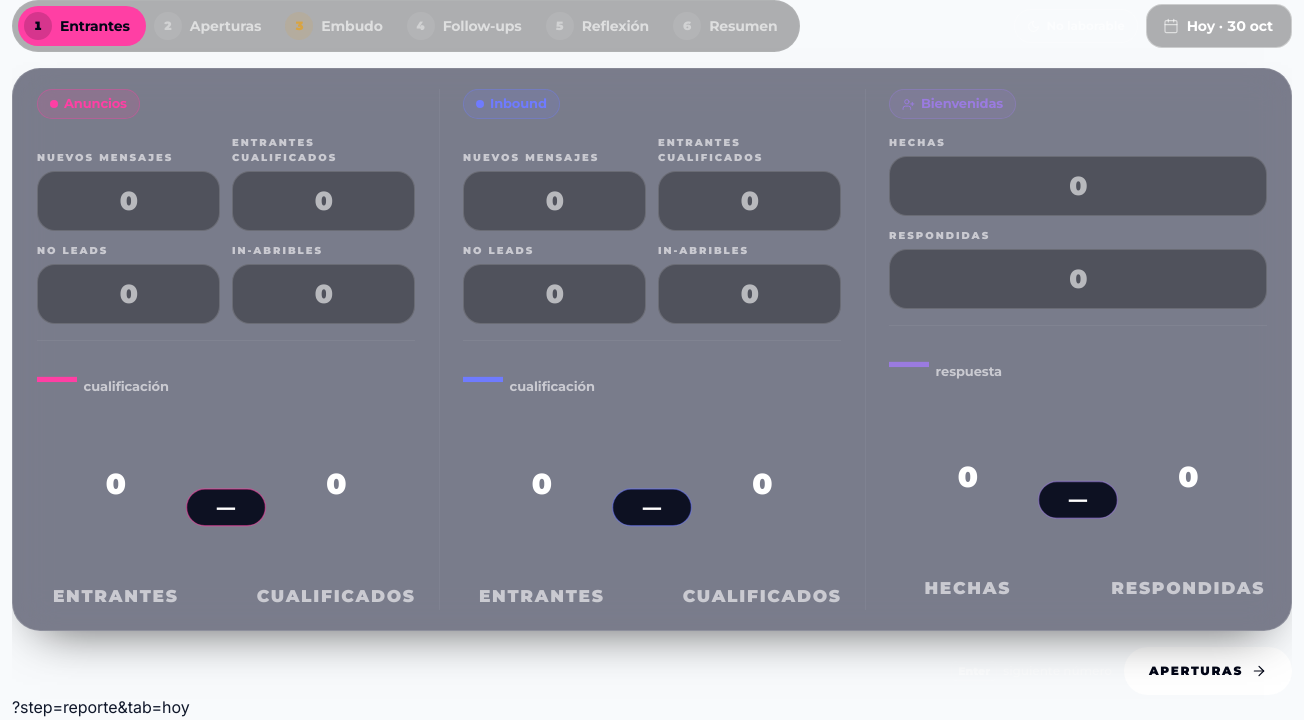
Test: ReporteDiario · de dónde salen los números › sin reporte del día, precarga solo las agendas: los mensajes los cuenta el setter
The width and height of the screenshot is (1304, 720).
Expected: the field named "Anuncios, nuevos mensajes" is empty, [38,172,219,230]
Expected: the field named "Anuncios, no leads" is empty, [38,265,219,323]
Click the button "Aperturas". click: (1208, 671)
box: [1124,647,1292,695]
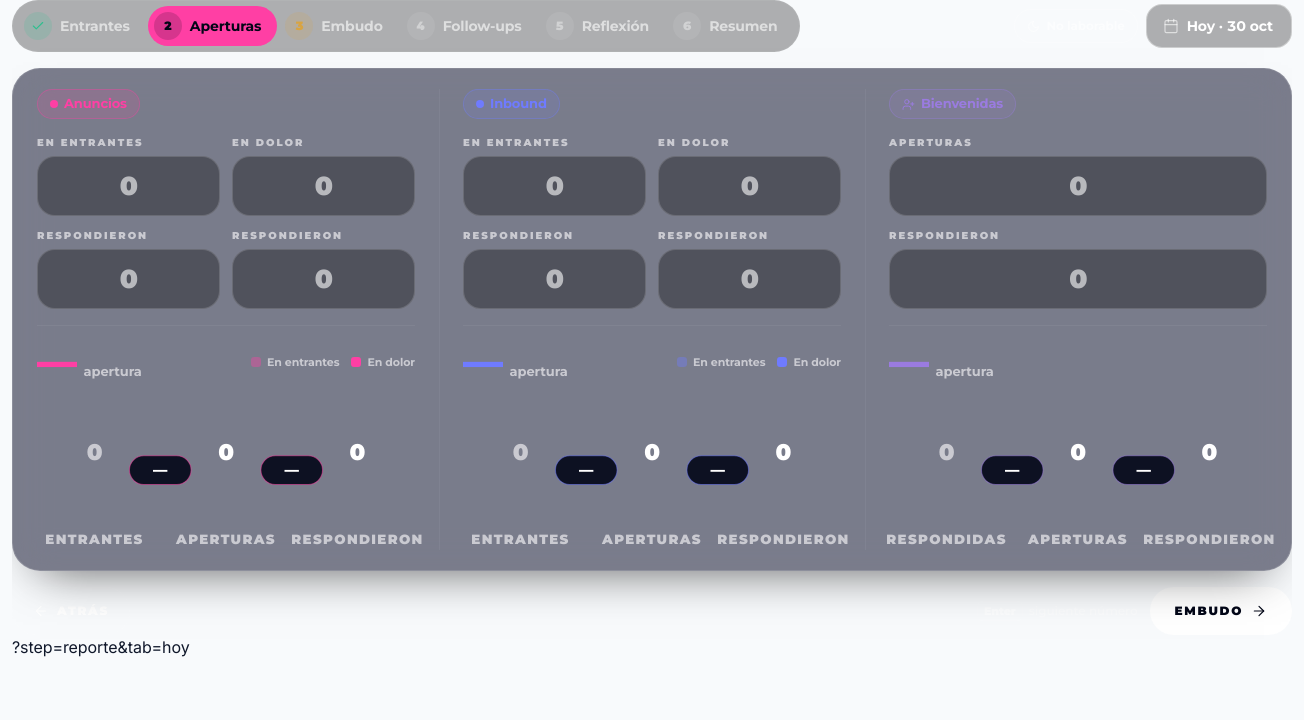
Click the button "Embudo". click: (1221, 611)
box: [1150,587,1292,635]
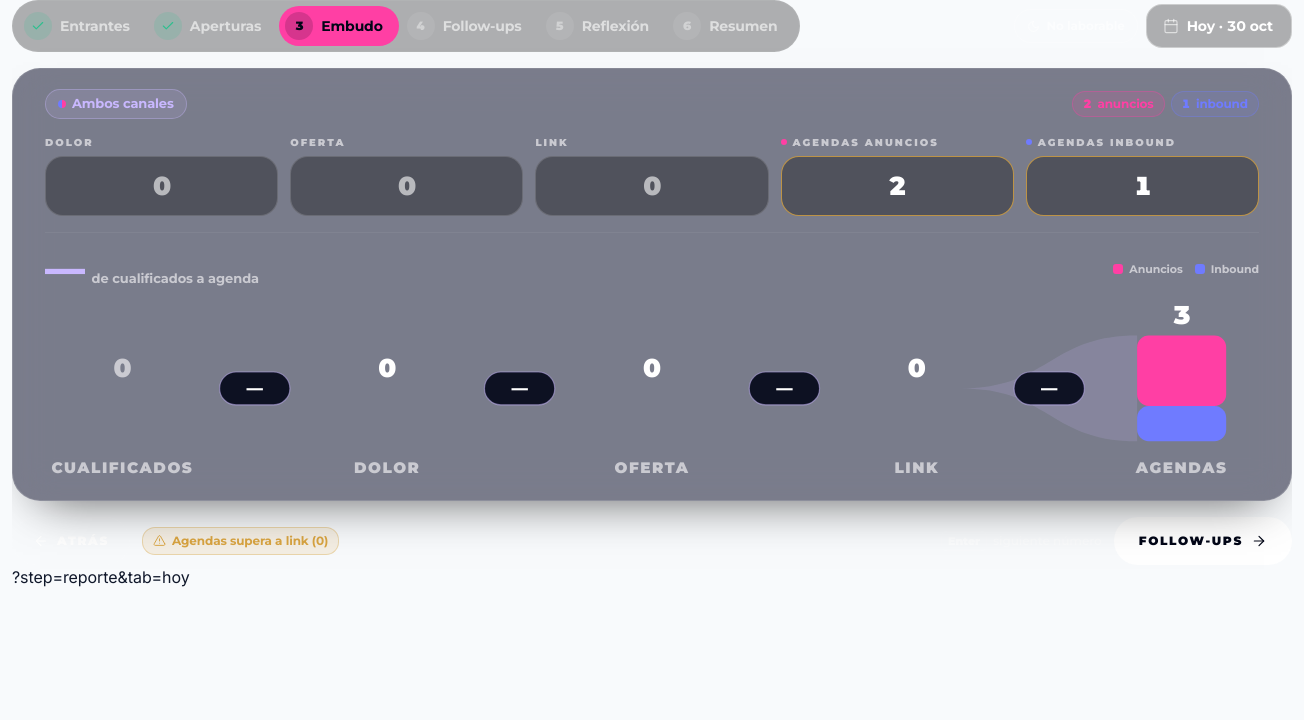
Now the field named "Agendas de anuncios" holds "2", box [782,157,1013,215]
Now the field named "Agendas de inbound" holds "1", box [1027,157,1258,215]
